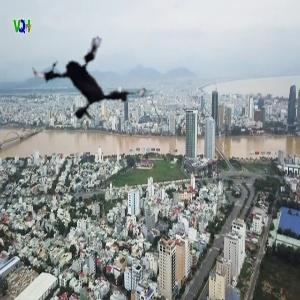drone: (26, 9, 158, 141)
